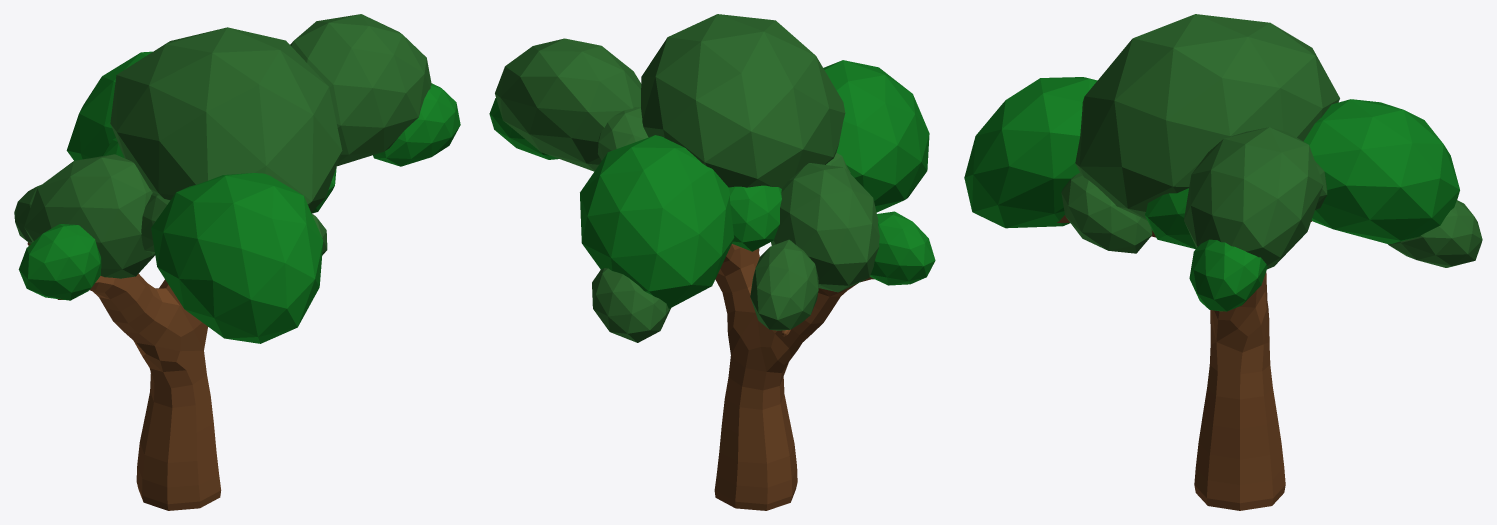
Rendered from Oak01.fbx.
3 renders of one model, left to right at view 1: azimuth 30°, elevation 25°; view 2: azimuth 150°, elevation 25°; view 3: azimuth 270°, elevation 25°, orthographic. The views are drawn at different scales.
Visible parts, largest first — view 1: Icosphere; view 2: Icosphere; view 3: Icosphere.
Part boxes in pixels (left/top/right/bottom): Icosphere: left=14, top=14, right=460, bottom=510; Icosphere: left=489, top=14, right=935, bottom=510; Icosphere: left=964, top=14, right=1482, bottom=510.
Size of the model in its own units: 527 by 519 by 500.
